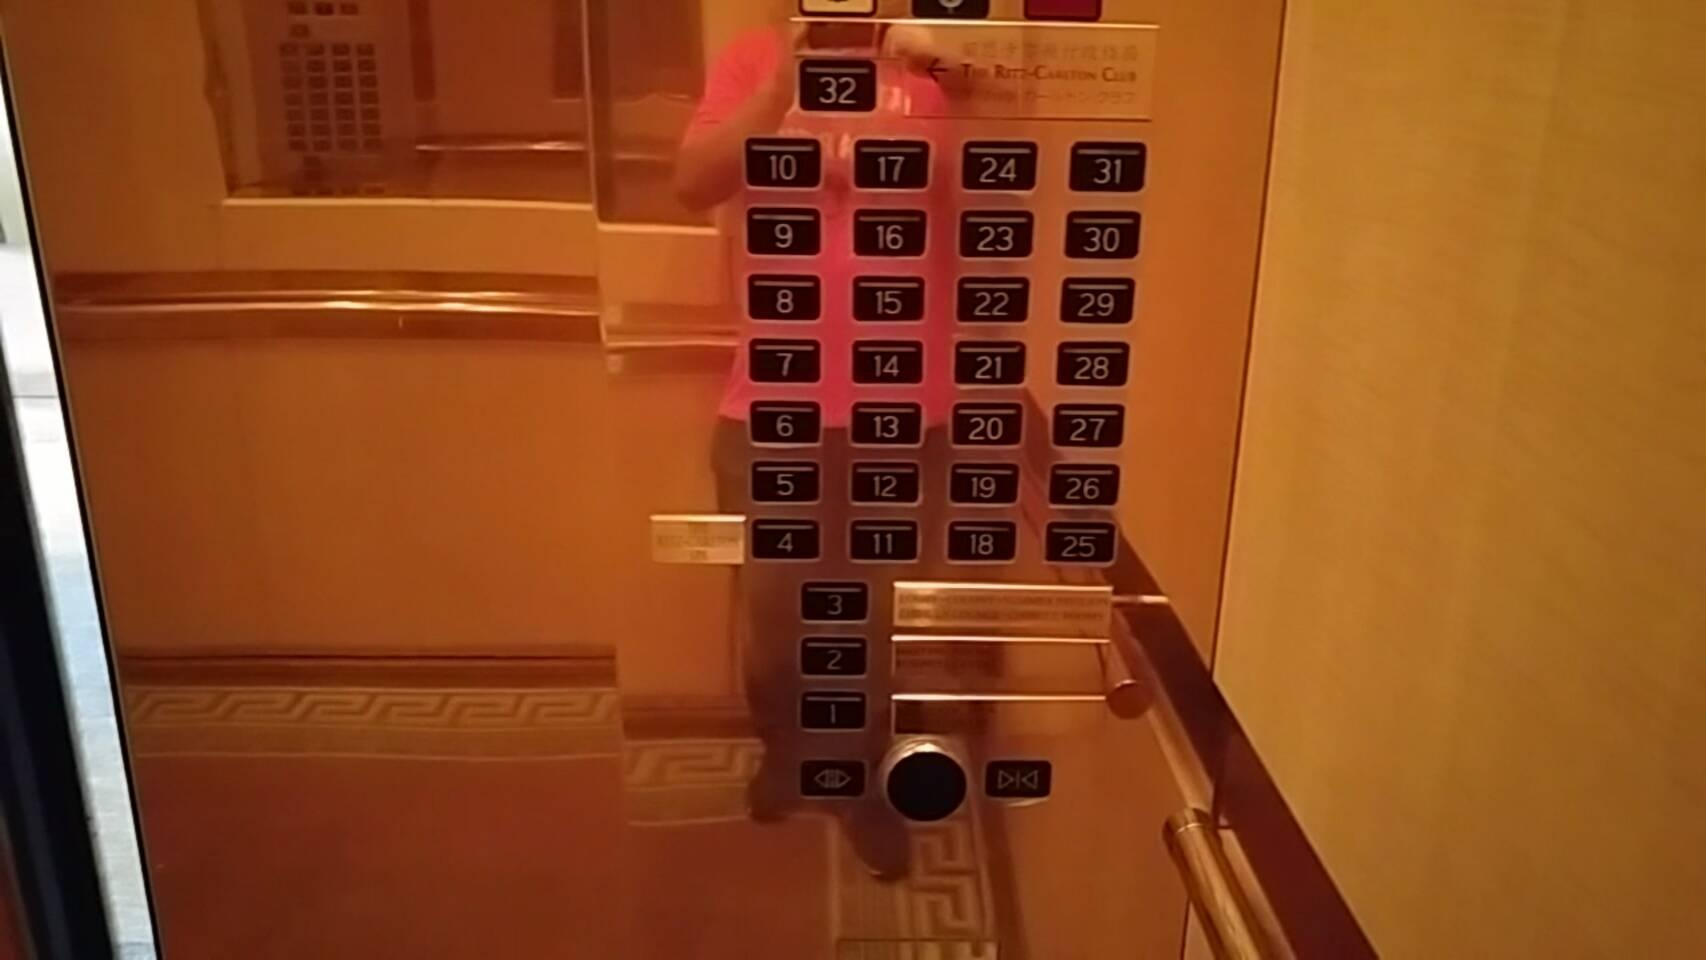1: (798, 689, 869, 731)
10: (743, 135, 824, 191)
11: (848, 516, 921, 563)
12: (849, 458, 921, 506)
13: (849, 399, 923, 447)
14: (849, 338, 926, 386)
15: (851, 272, 927, 324)
16: (852, 206, 930, 258)
17: (852, 137, 932, 193)
18: (946, 518, 1019, 563)
19: (948, 459, 1021, 508)
2: (798, 633, 871, 678)
20: (950, 399, 1025, 449)
21: (953, 338, 1028, 387)
22: (955, 273, 1031, 324)
23: (958, 207, 1035, 260)
24: (958, 137, 1040, 195)
25: (1044, 518, 1118, 567)
26: (1048, 459, 1122, 508)
27: (1051, 400, 1127, 450)
28: (1053, 338, 1132, 388)
29: (1059, 274, 1137, 326)
3: (798, 578, 871, 624)
30: (1063, 207, 1142, 261)
31: (1067, 138, 1147, 195)
32: (797, 56, 878, 114)
4: (750, 516, 823, 561)
5: (750, 457, 823, 505)
6: (748, 397, 824, 448)
7: (746, 335, 825, 387)
8: (744, 270, 824, 324)
9: (744, 204, 825, 259)
close: (984, 758, 1053, 799)
empty: (883, 740, 973, 829)
open: (797, 756, 868, 798)
